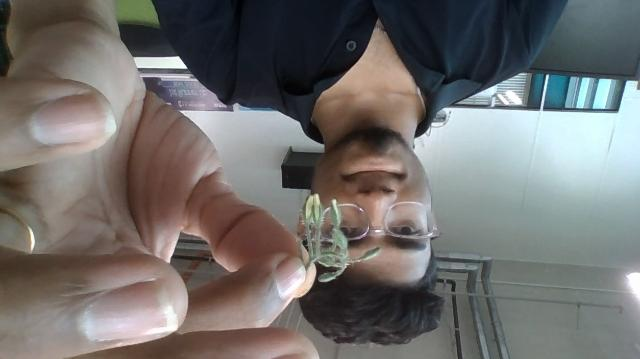Flower Bud: (304, 194, 321, 228), (353, 246, 382, 262), (316, 267, 344, 283), (330, 199, 341, 229)
